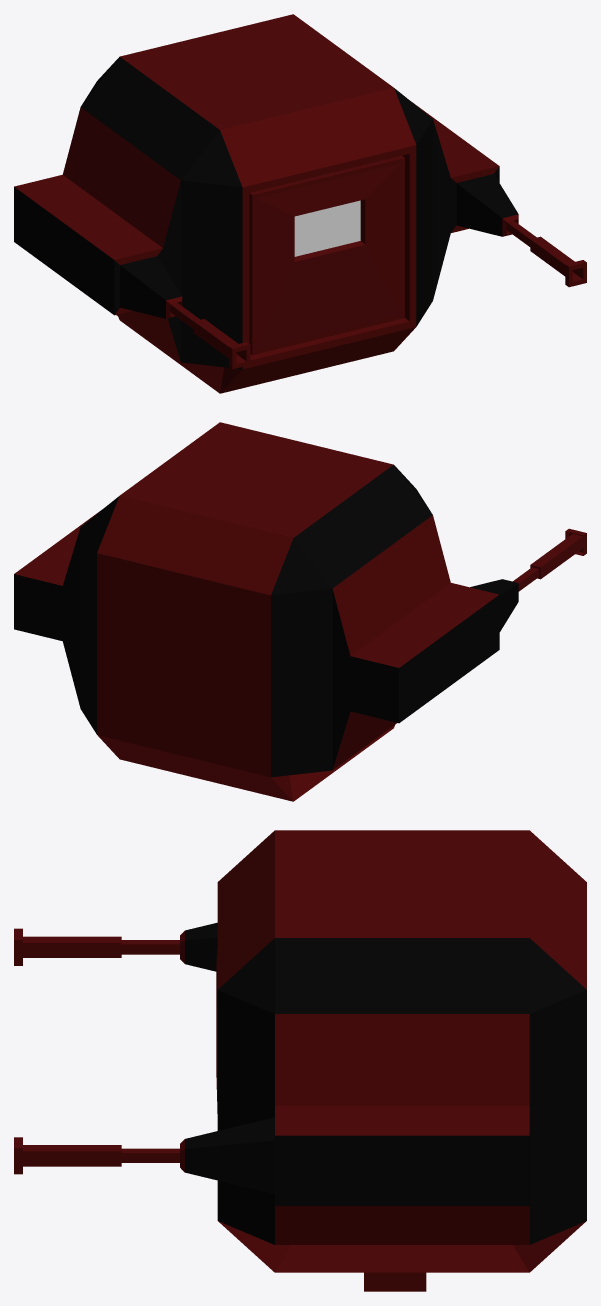
The model's file is FlyGun.fbx.
The picture shows the model from 3 angles, top to bottom: view 1: azimuth 30°, elevation 25°; view 2: azimuth 150°, elevation 25°; view 3: azimuth 270°, elevation 25°; orthographic projection. The views are drawn at different scales.
Parts seen in each view (by area): view 1: FlyGun; view 2: FlyGun; view 3: FlyGun.
Part boxes in pixels (<box>): FlyGun: <box>14,14,586,393</box>; FlyGun: <box>14,422,586,801</box>; FlyGun: <box>14,830,586,1291</box>.
Size of the model in its own units: 3.06 by 2.25 by 3.1.
